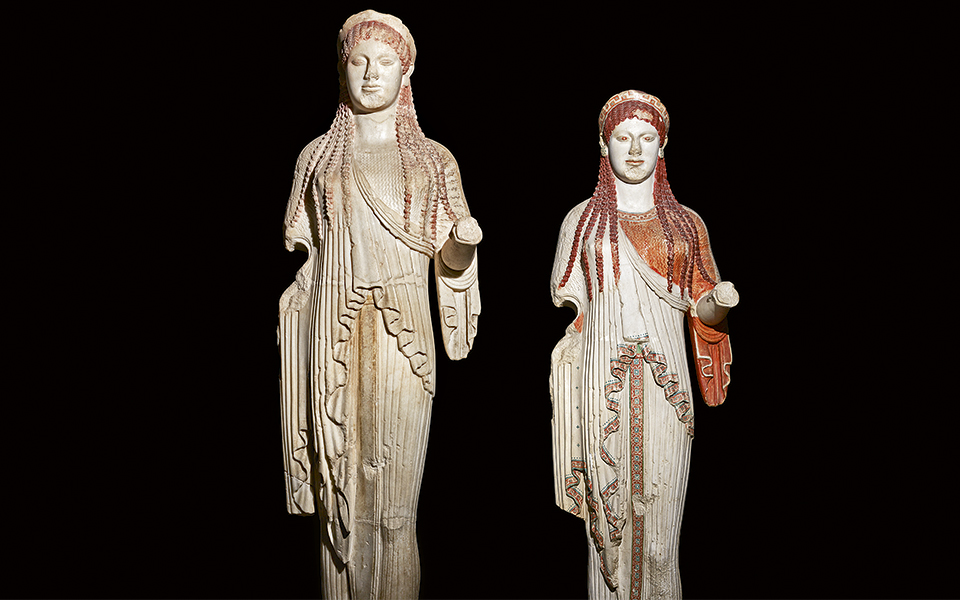person-like: (269, 6, 491, 599), (539, 83, 745, 600)
